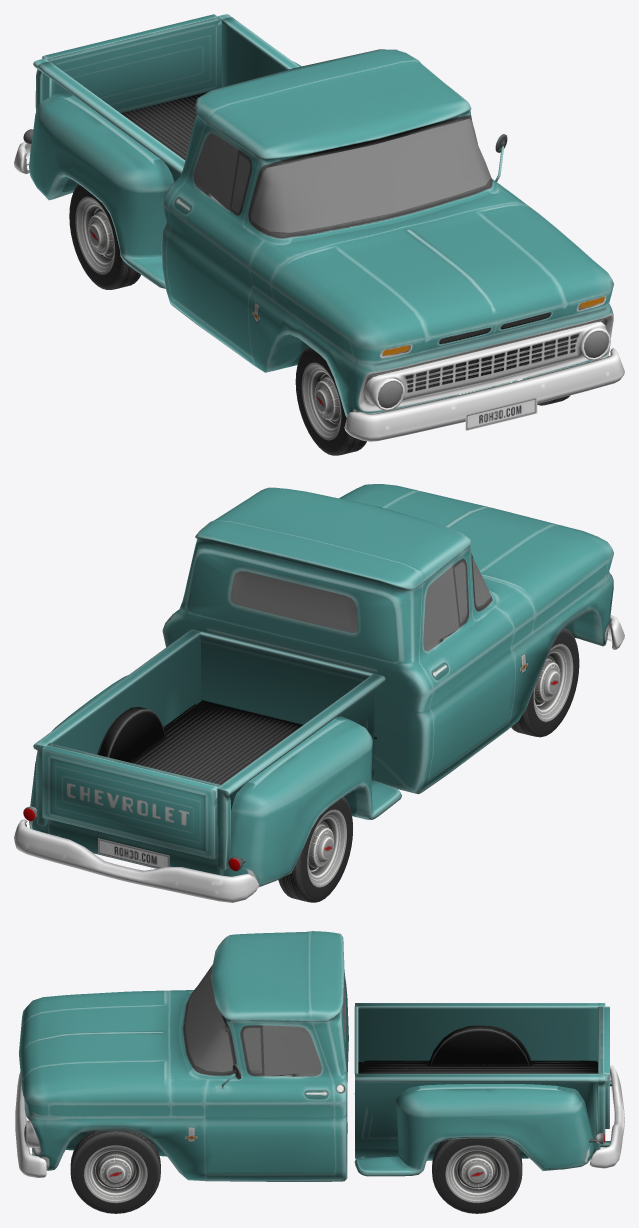
Rendered from puck_prep_model_test.glb.
3 renders of one model, top to bottom at view 1: azimuth 30°, elevation 25°; view 2: azimuth 150°, elevation 25°; view 3: azimuth 270°, elevation 25°, orthographic. The views are drawn at different scales.
Parts seen in each view (by area): view 1: Object_10, Object_6, Object_8; view 2: Object_10, Object_8, Object_6; view 3: Object_10, Object_8, Object_6.
Boxes of the visible parts, x1,y1,x2,y2 form: Object_10: (14, 14, 624, 441); Object_6: (193, 118, 608, 408); Object_8: (69, 184, 570, 455); Object_10: (14, 484, 624, 902); Object_8: (278, 628, 579, 902); Object_6: (23, 556, 491, 870); Object_10: (15, 931, 624, 1181); Object_8: (70, 1130, 522, 1213); Object_6: (24, 964, 604, 1143).
Bounding box in the file's own units: 209 × 178 × 486.
Materials: 3 (3 with a texture image).
